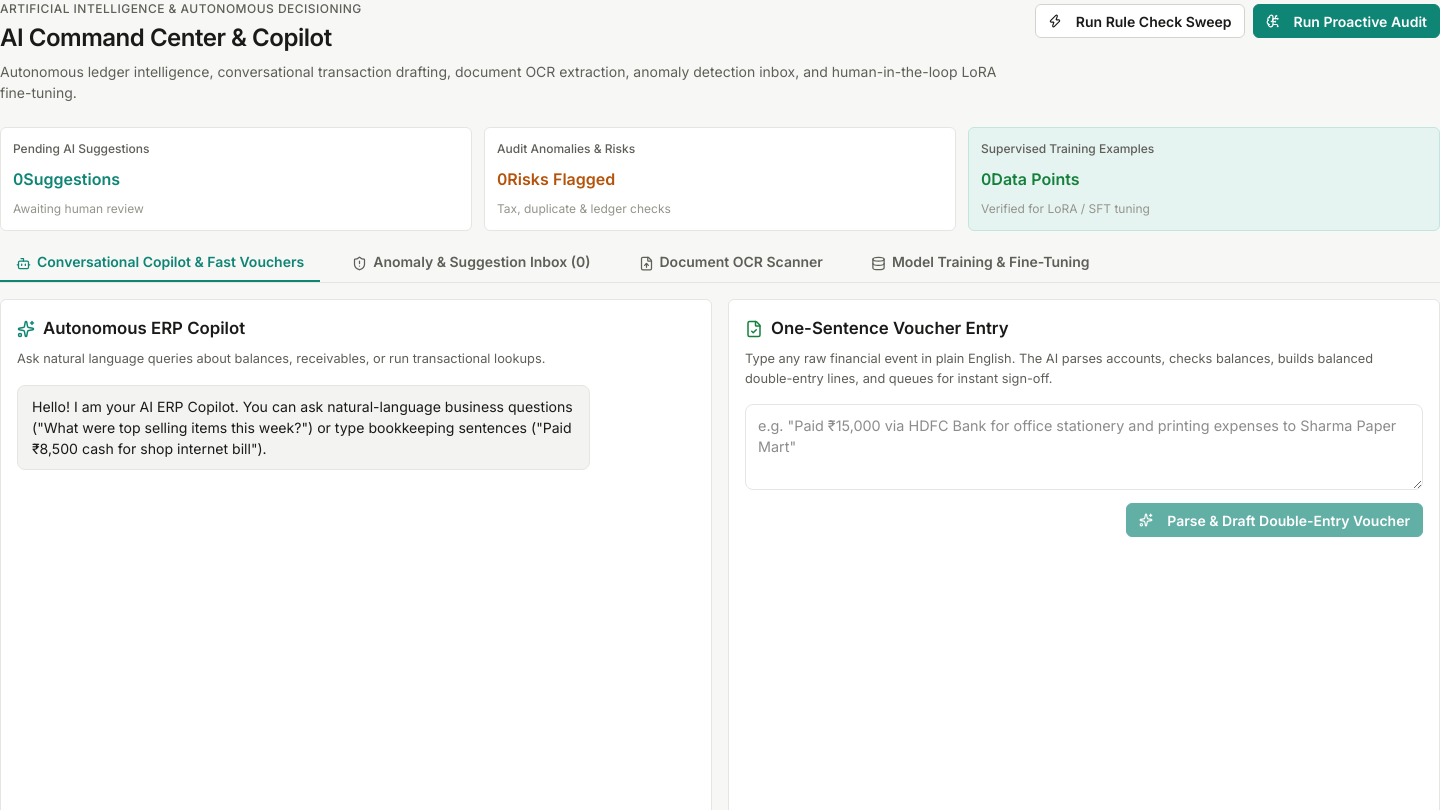
does not request protected training data for non-admin roles
The width and height of the screenshot is (1440, 810).
Click the button "Model Training & Fine-Tuning": (980, 263) left=855, top=243, right=1106, bottom=282
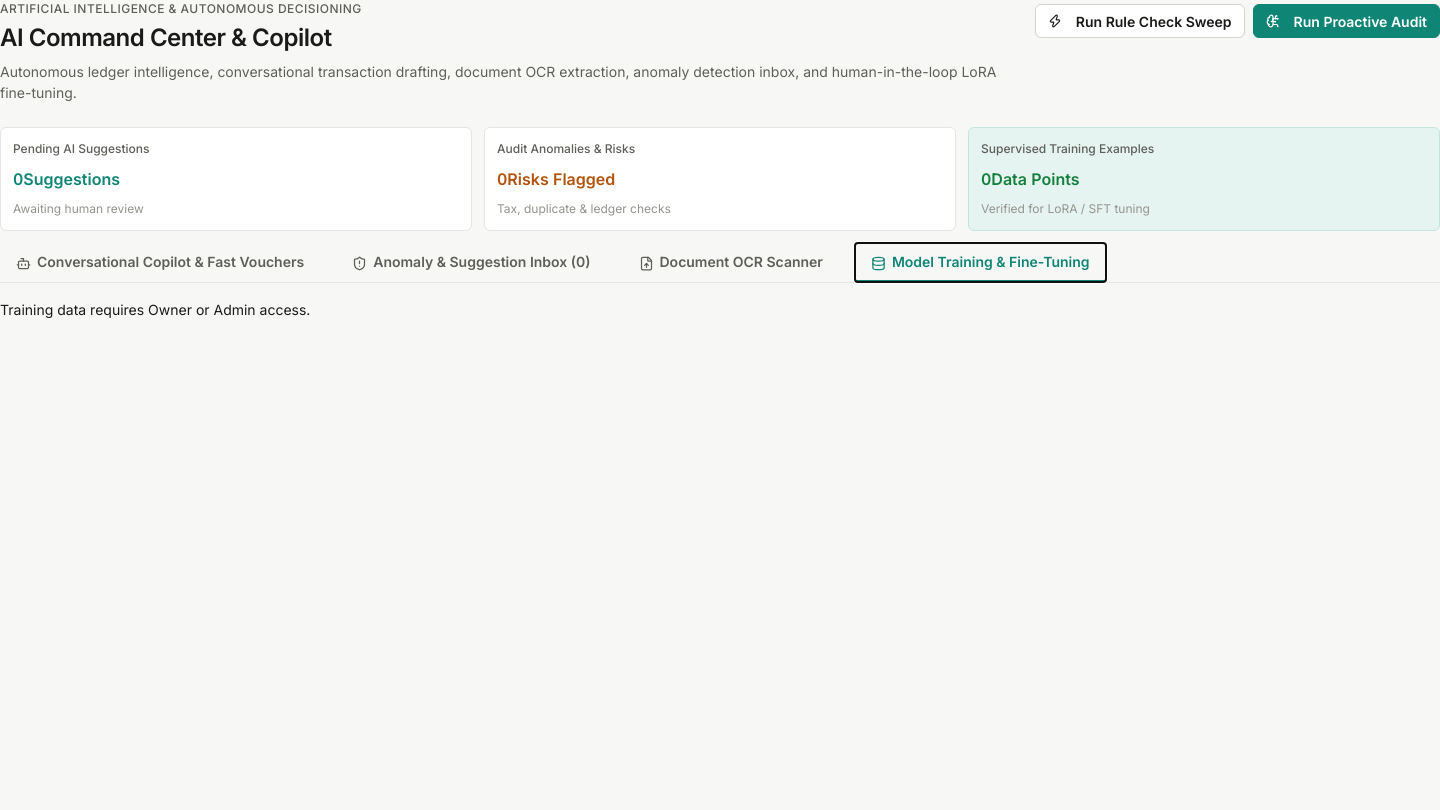
Now the message shows "Owner or Admin", box left=0, top=301, right=310, bottom=318
